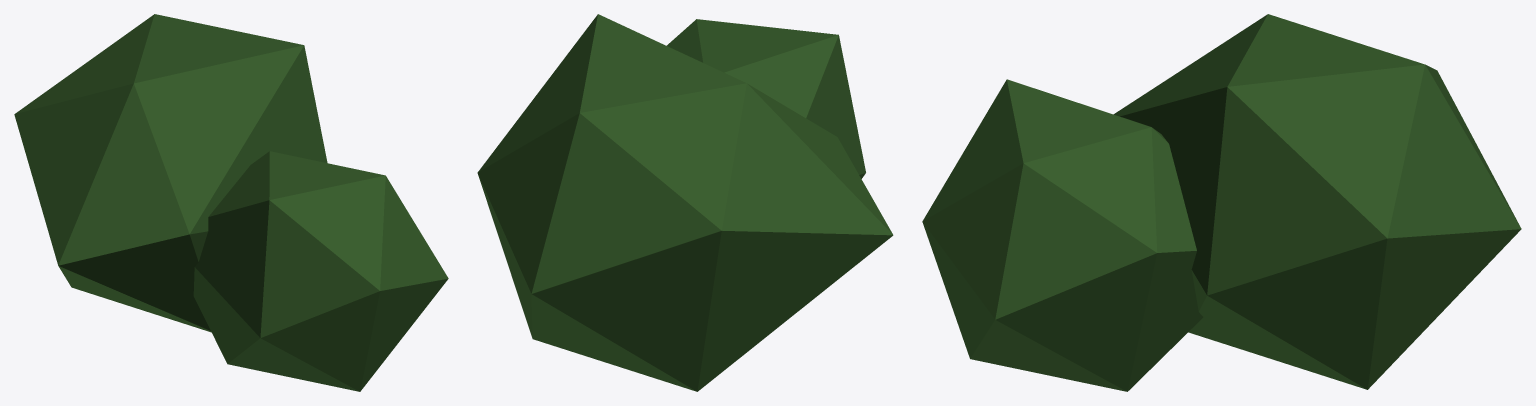
The model's file is Bush4.fbx.
The picture shows the model from 3 angles, left to right: view 1: azimuth 30°, elevation 25°; view 2: azimuth 150°, elevation 25°; view 3: azimuth 270°, elevation 25°; orthographic projection. The views are drawn at different scales.
Visible parts, largest first — view 1: Cube.007; view 2: Cube.007; view 3: Cube.007.
Boxes of the visible parts, <box> form: Cube.007: <box>14,14,448,391</box>; Cube.007: <box>477,14,893,391</box>; Cube.007: <box>922,14,1521,391</box>.
Bounding box in the file's own units: 135 × 107 × 193.
